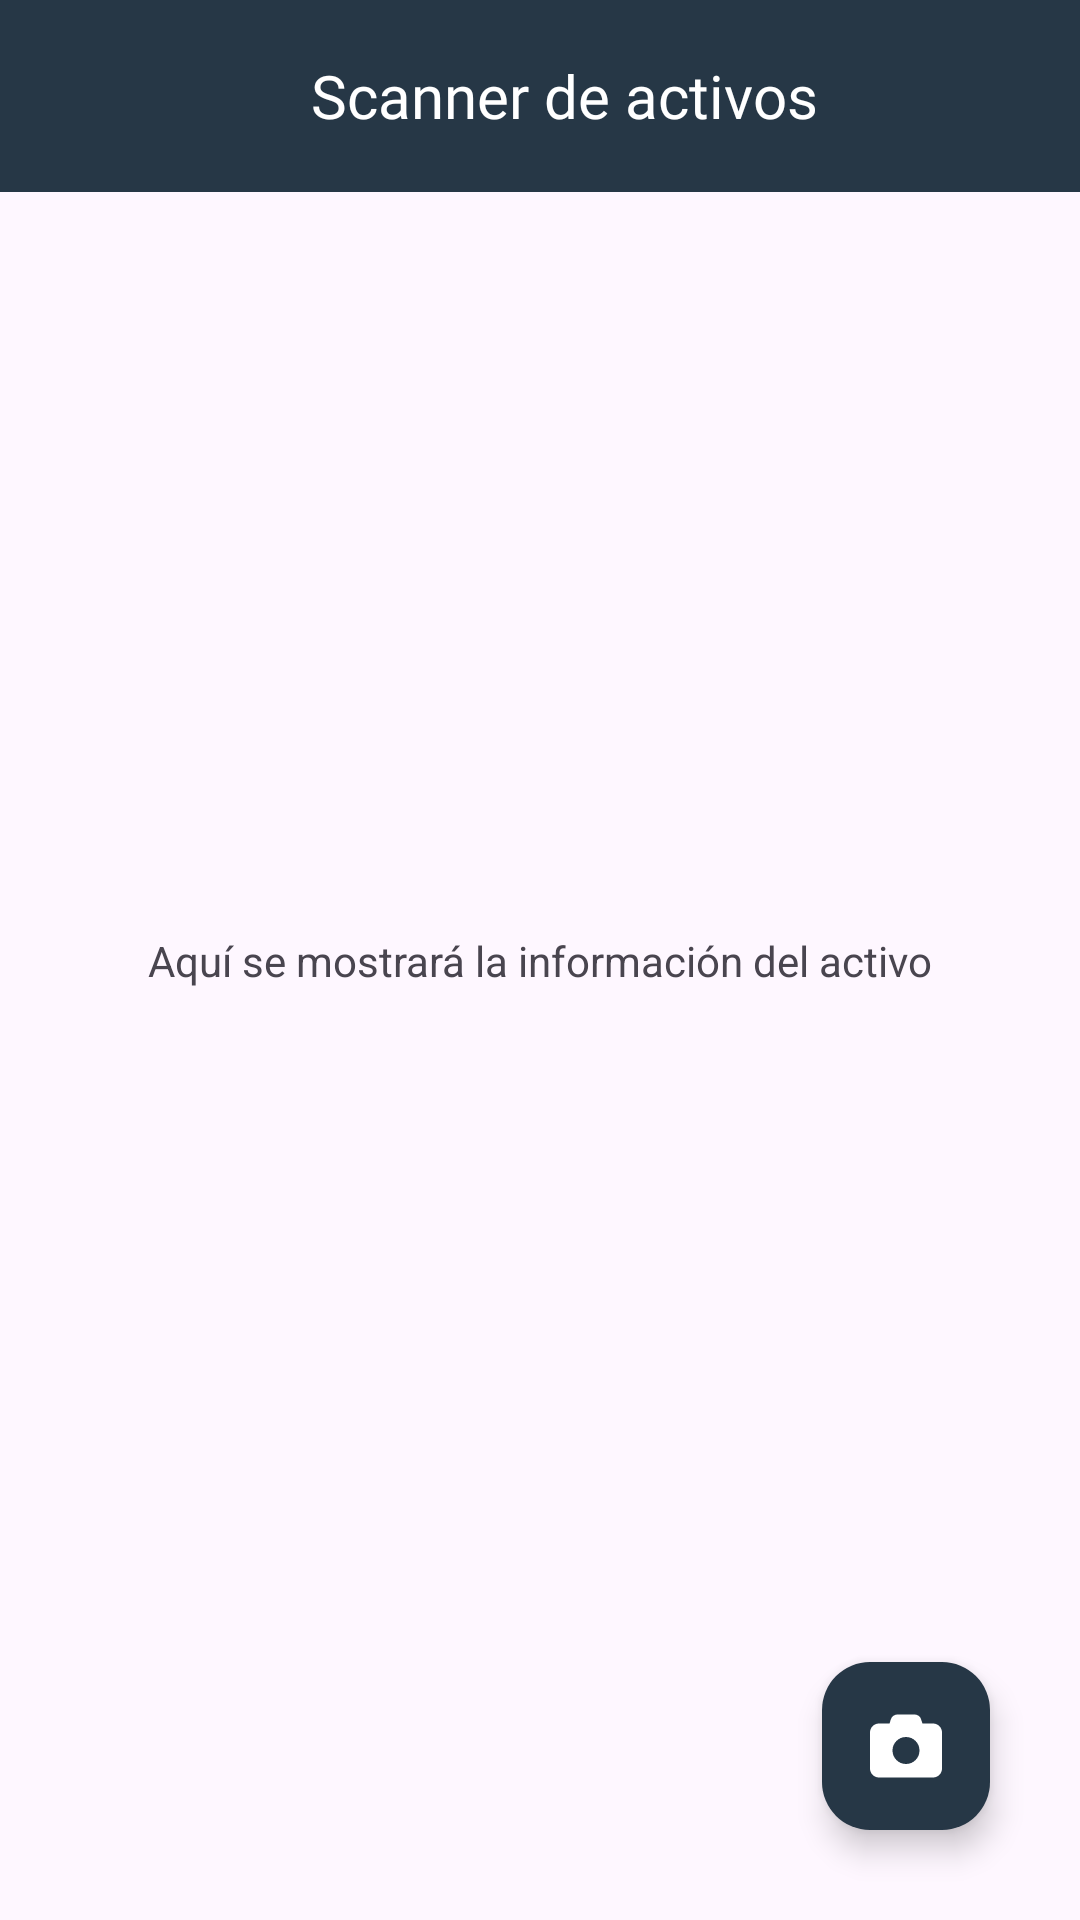

Icons on this 1080px x 1920px Android screen, each with its box as Rect(x1, y1, x2, y2):
scanner: Rect(822, 1662, 990, 1830)
